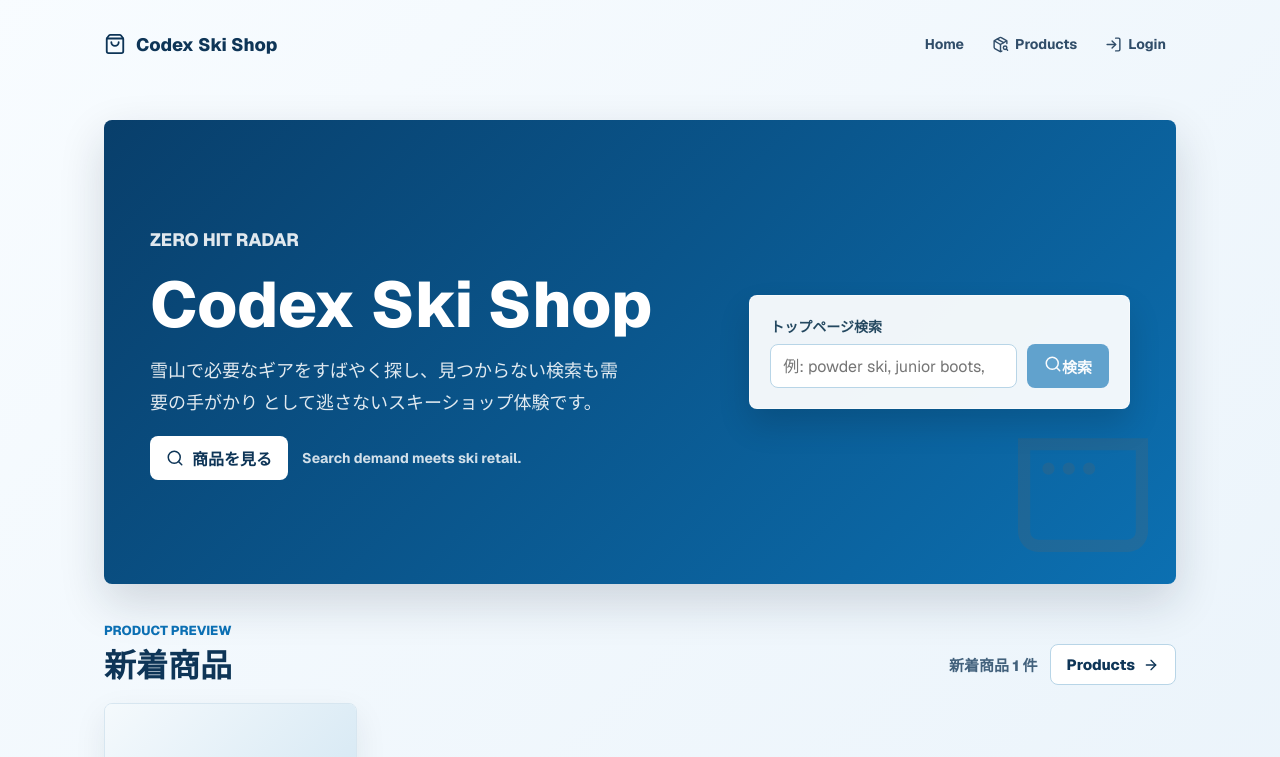
Test: HomePageClient › shows a natural zero-hit empty state
Type "unknown ski" into the search field labelled "トップページ検索" at (894, 366), box [770,344,1017,388]
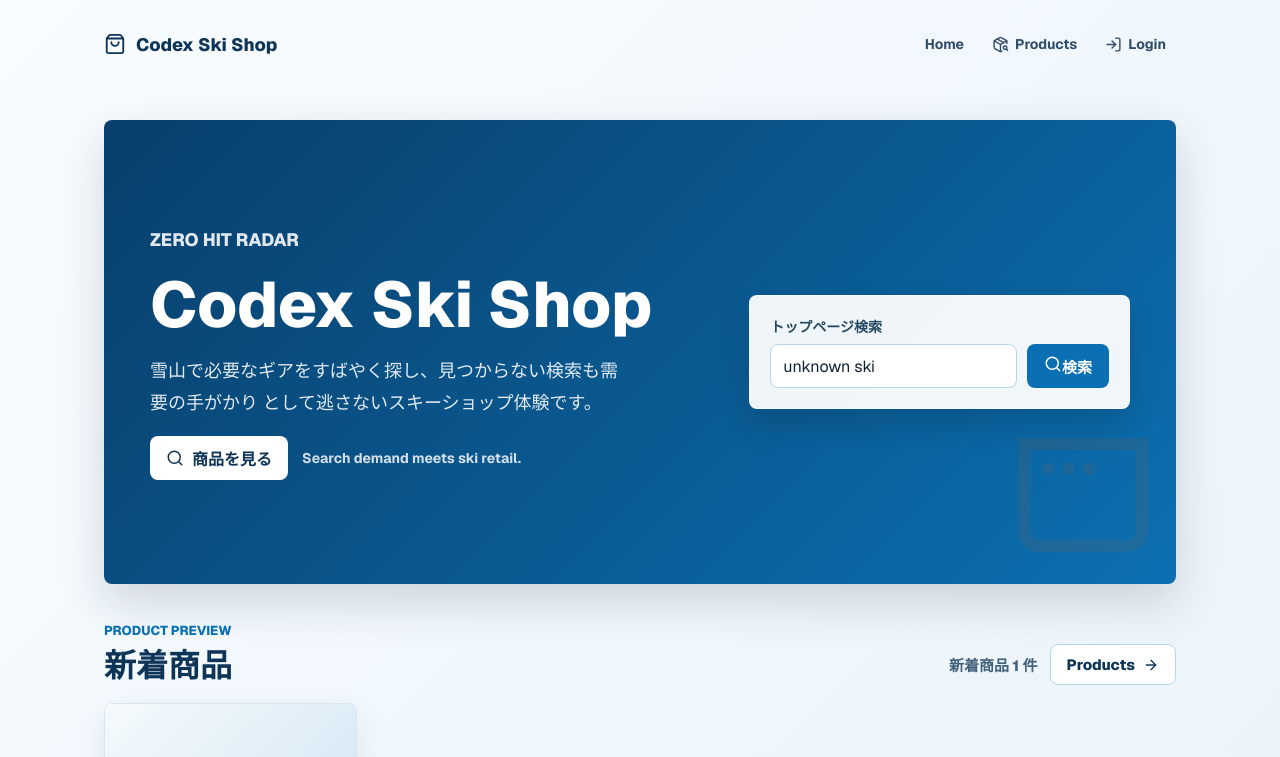
Click the button "検索" at (1068, 366), box [1027,344,1109,388]
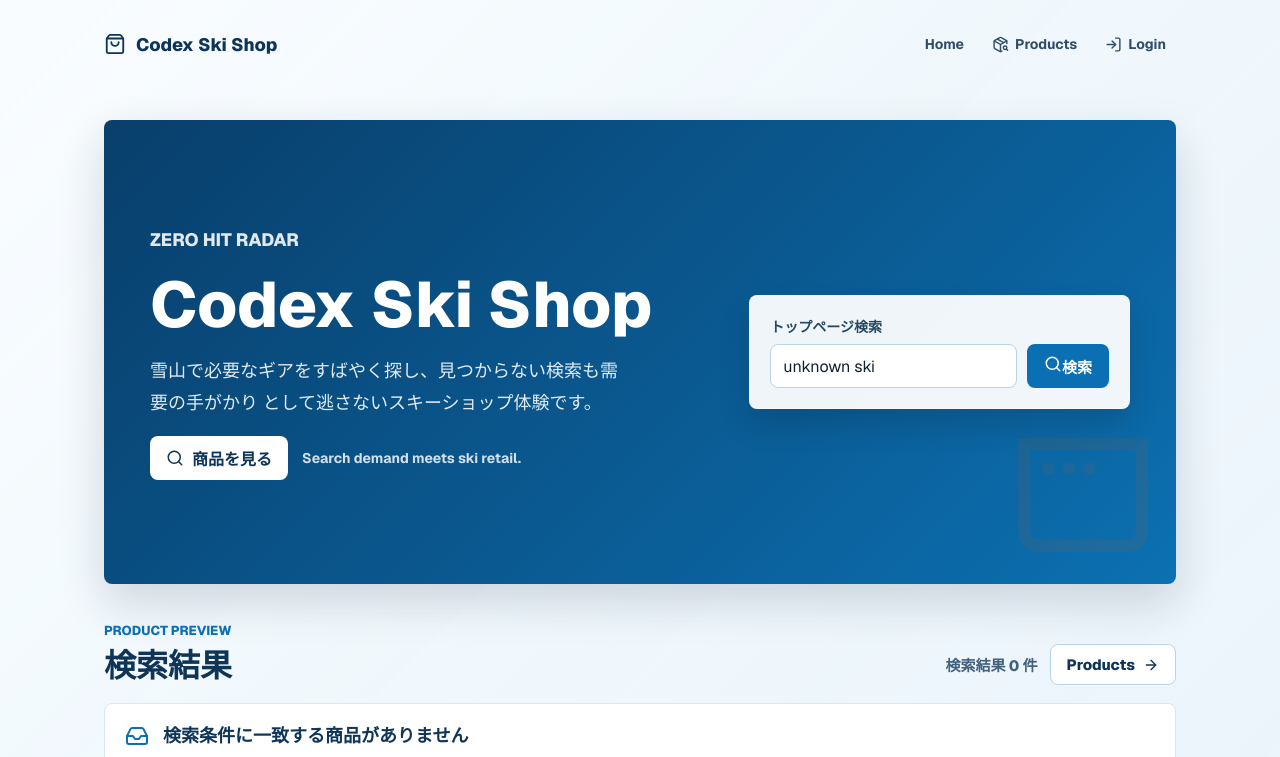
Expected: the heading "検索条件に一致する商品がありません" is shown, [163,724,468,747]
Expected: the text "検索結果 0 件" is shown, [945,654,1038,675]
